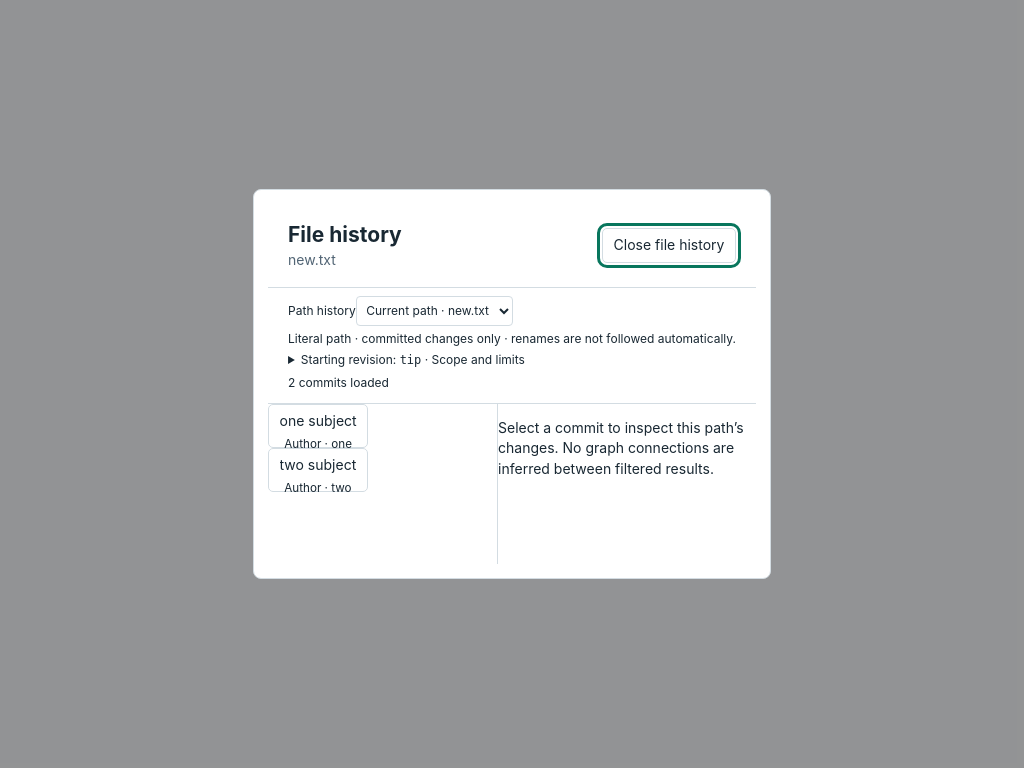
Test: ignores stale selected-commit details and stale diff responses
The image size is (1024, 768).
Click the button "one subject Author · one". click: coordinates (318, 426)
box: x1=268 y1=404 x2=368 y2=448
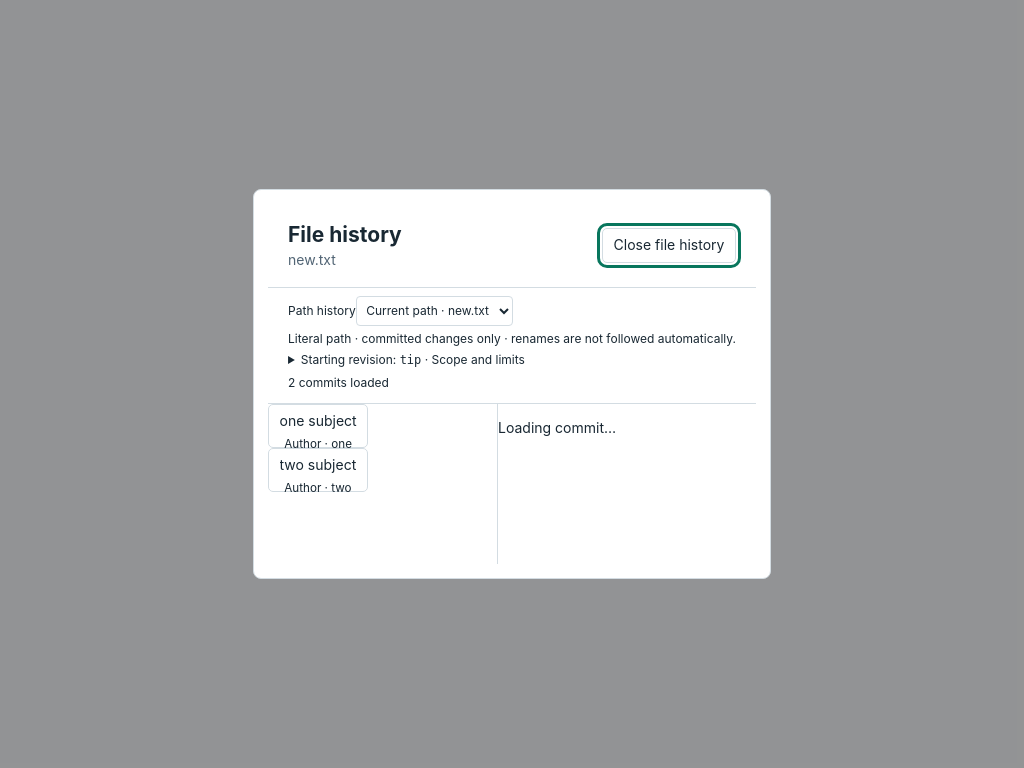
Click the button "two subject Author · two". click: coordinates (318, 470)
box: x1=268 y1=448 x2=368 y2=492
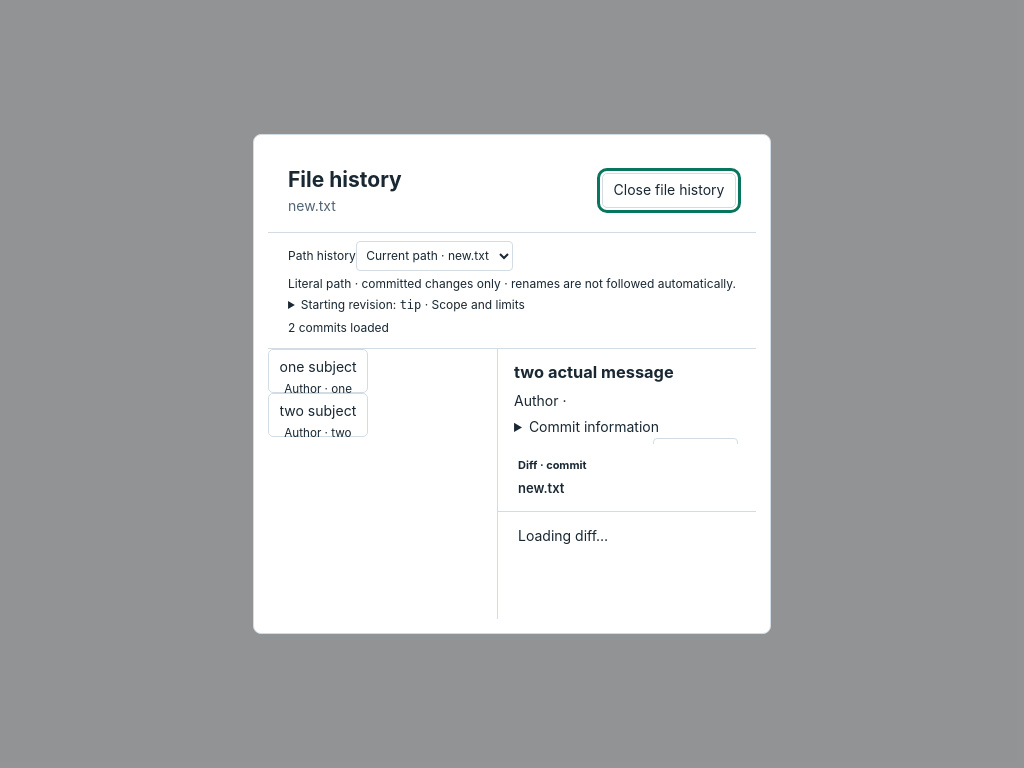
Click the button "one subject Author · one". click: coordinates (318, 371)
box: x1=268 y1=349 x2=368 y2=393
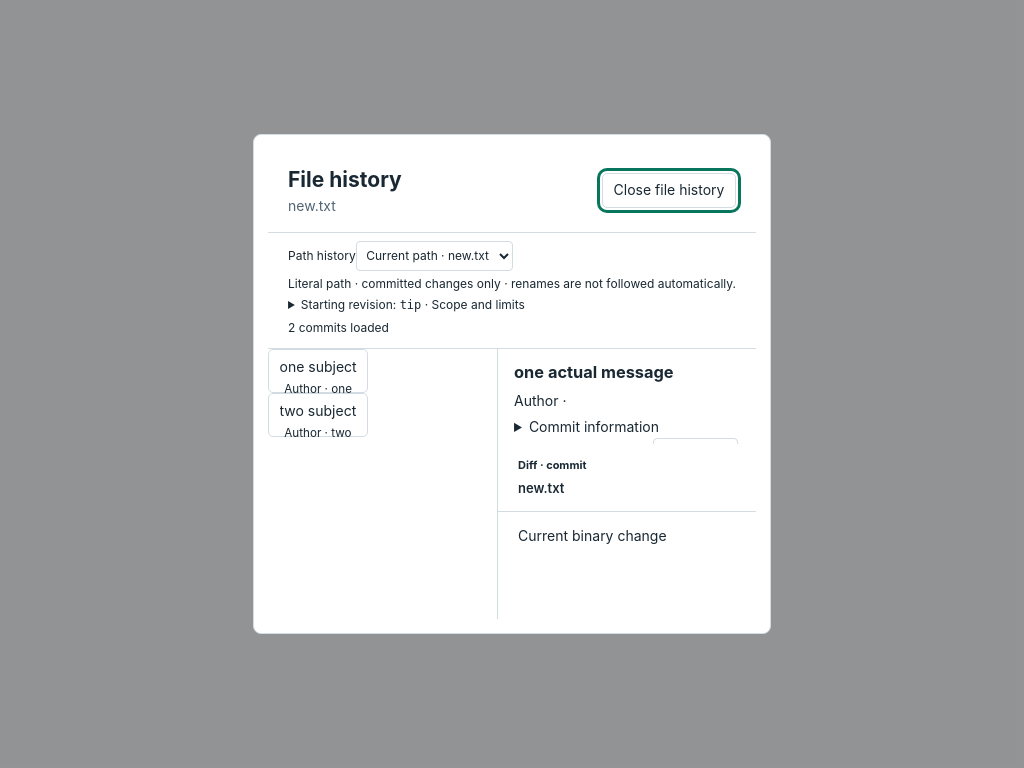
Expected: the text "Current binary change" is shown, x1=518 y1=527 x2=666 y2=544
